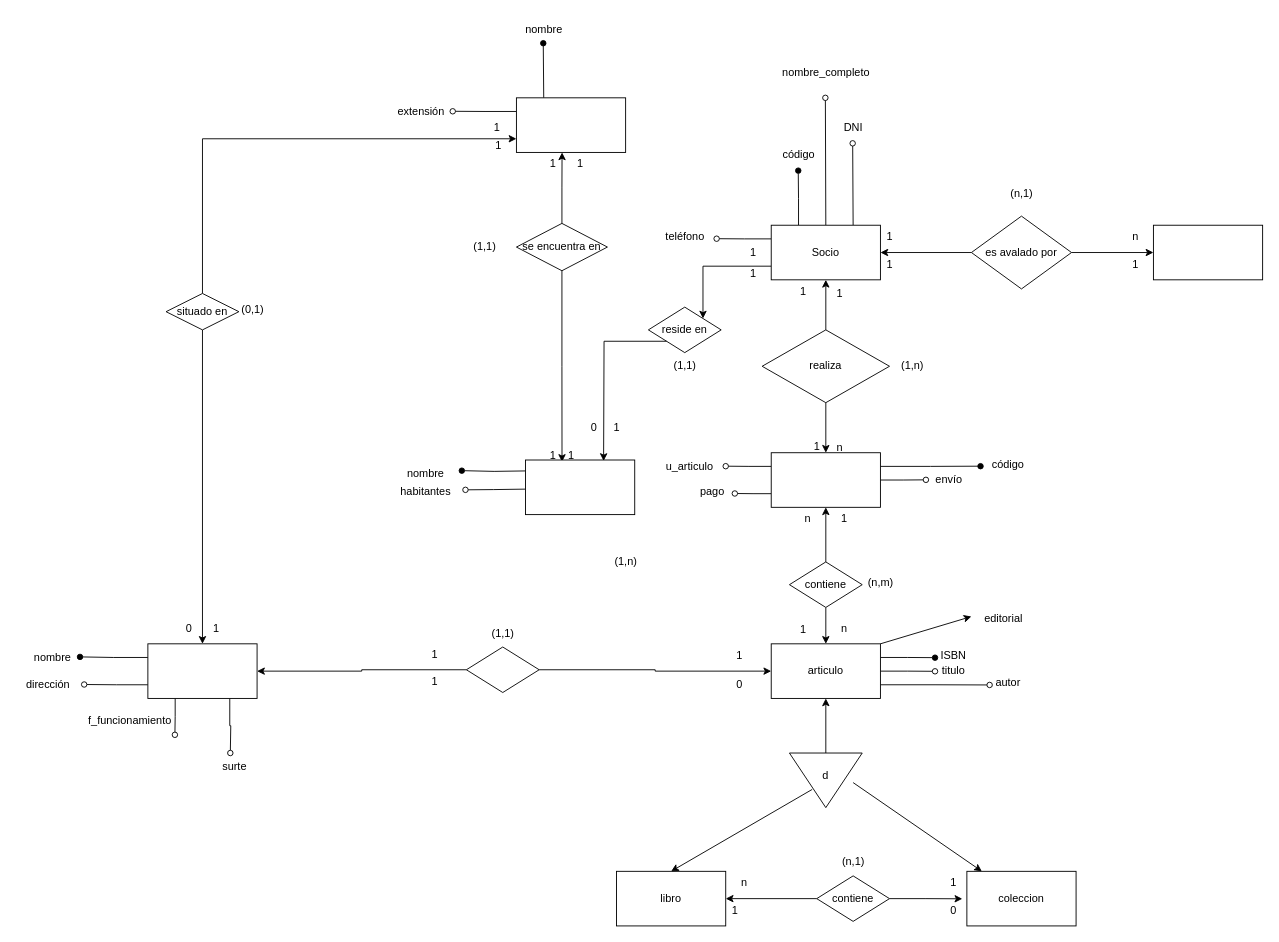
The diagram is 1279 pixels wide and 942 high, and some of its shapes have lost their labels. Here are the shapes that lost their labels. From the top down, the centre of each, then its label:
At pixel 571 124: "provincia".
At pixel 1208 252: "Cliente".
At pixel 580 487: "población".
At pixel 825 479: "pedido".
At pixel 202 670: "almacén".
At pixel 502 669: "tiene stock".
